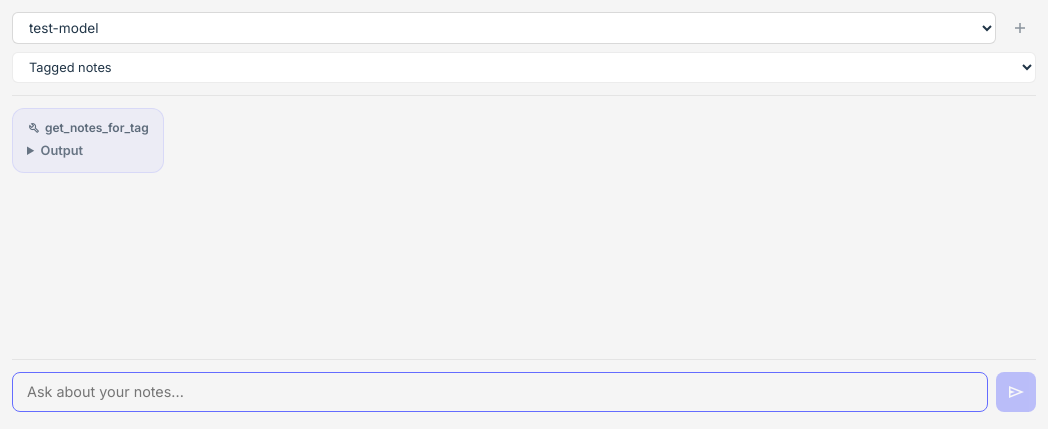
Test case: App chat view › collapses get_notes_for_tag tool output until opened
Expected: the text "get_notes_for_tag" is shown, [27, 119, 149, 137]
Expected: the text "Tagged note output" is not shown
Step 1. Click the heading "Output" → (62, 150), box [40, 143, 83, 158]
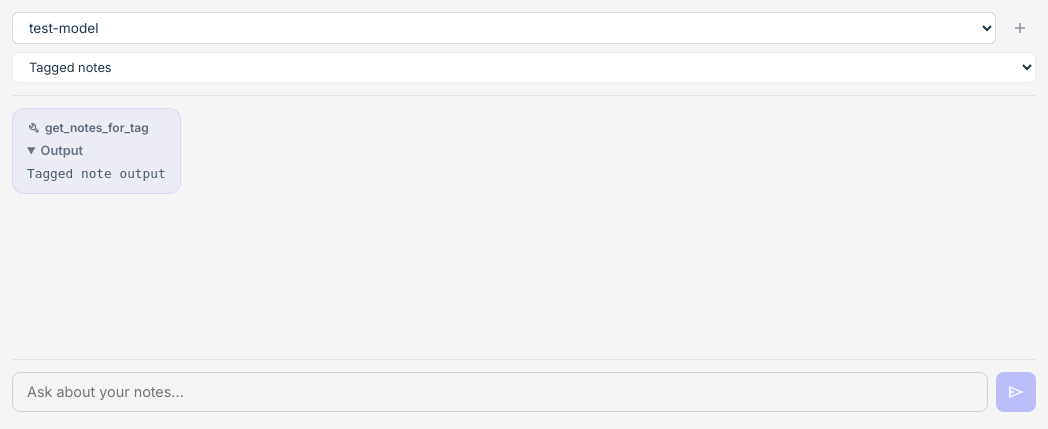
Expected: the text "Tagged note output" is shown, [27, 164, 166, 183]
